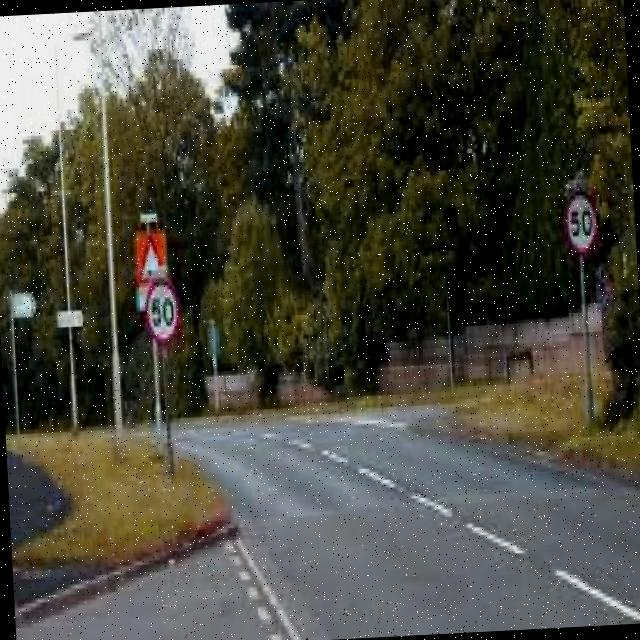Ograniczenie predkosci do 50: (143, 272, 184, 352), (560, 183, 602, 260)
